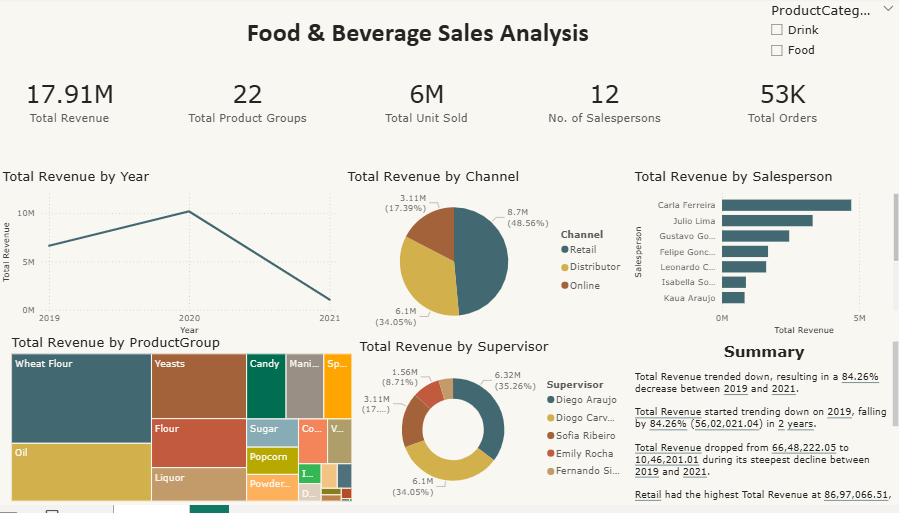

Layout of this report page (visuals, bound fields, positions):
{"tool":"powerbi","page":{"name":"Page 1","canvas":[1280,720],"ordinal":0},"visuals":[{"type":"card","fields":{"Values":["Products.Total Product Groups"]},"box":[252.7,96.5,200,100],"z":0},{"type":"card","fields":{"Values":["Products.Total Unit Sold"]},"box":[505.4,96.5,200,100],"z":1000},{"type":"card","fields":{"Values":["Products.No. of Salespersons"]},"box":[758.2,96.5,200,100],"z":2000},{"type":"card","fields":{"Values":["Products.Total Orders"]},"box":[1010.9,96.5,200,100],"z":3000},{"type":"card","fields":{"Values":["Products.Total Revenue"]},"box":[0,96.5,200,100],"z":4000},{"type":"textbox","box":[0,409,213,150],"z":5000},{"type":"textbox","box":[106.6,21.6,974.9,57.6],"z":6000},{"type":"lineChart","fields":{"Category":["Sales.OrderDate.Variation.Date Hierarchy.Year","Sales.OrderDate.Variation.Date Hierarchy.Quarter","Sales.OrderDate.Variation.Date Hierarchy.Month","Sales.OrderDate.Variation.Date Hierarchy.Day"],"Y":["Products.Total Revenue"]},"box":[0,241.9,489.6,241.9],"z":7000},{"type":"pieChart","fields":{"Category":["Sales.Channel"],"Y":["Products.Total Revenue"]},"box":[489.6,241.9,406.1,241.9],"z":8000},{"type":"treemap","fields":{"Values":["Products.Total Revenue"],"Group":["Products.ProductGroup"]},"box":[13,478.1,492.5,241.9],"z":9000},{"type":"clusteredBarChart","fields":{"Y":["Products.Total Revenue"],"Category":["Sales.Salesperson"]},"box":[895.7,241.9,384.5,241.9],"z":10000},{"type":"donutChart","fields":{"Y":["Products.Total Revenue"],"Category":["Sales.Supervisor"]},"box":[505.4,483.8,390.2,236.2],"z":11000},{"type":"textbox","box":[895.7,483.8,384.5,236.2],"z":12000},{"type":"slicer","fields":{"Values":["Products.ProductCategory"]},"box":[1081.4,1.4,198.7,96.5],"z":13000}]}

Visuals, with their boxes in screenshot pixels (x1, y1, x2, y2), scaled from the page's 1280x720 canvas onto the 899x513 screenshot:
card - Products.Total Product Groups: detection(177, 69, 318, 140)
card - Products.Total Unit Sold: detection(355, 69, 495, 140)
card - Products.No. of Salespersons: detection(533, 69, 673, 140)
card - Products.Total Orders: detection(710, 69, 850, 140)
card - Products.Total Revenue: detection(0, 69, 140, 140)
textbox: detection(0, 291, 150, 398)
textbox: detection(75, 15, 760, 56)
lineChart - Sales.OrderDate.Variation.Date Hierarchy.Year x Sales.OrderDate.Variation.Date Hierarchy.Quarter: detection(0, 172, 344, 345)
pieChart - Sales.Channel x Products.Total Revenue: detection(344, 172, 629, 345)
treemap - Products.Total Revenue x Products.ProductGroup: detection(9, 341, 355, 512)
clusteredBarChart - Products.Total Revenue x Sales.Salesperson: detection(629, 172, 898, 345)
donutChart - Products.Total Revenue x Sales.Supervisor: detection(355, 345, 629, 512)
textbox: detection(629, 345, 898, 512)
slicer - Products.ProductCategory: detection(760, 1, 898, 70)
